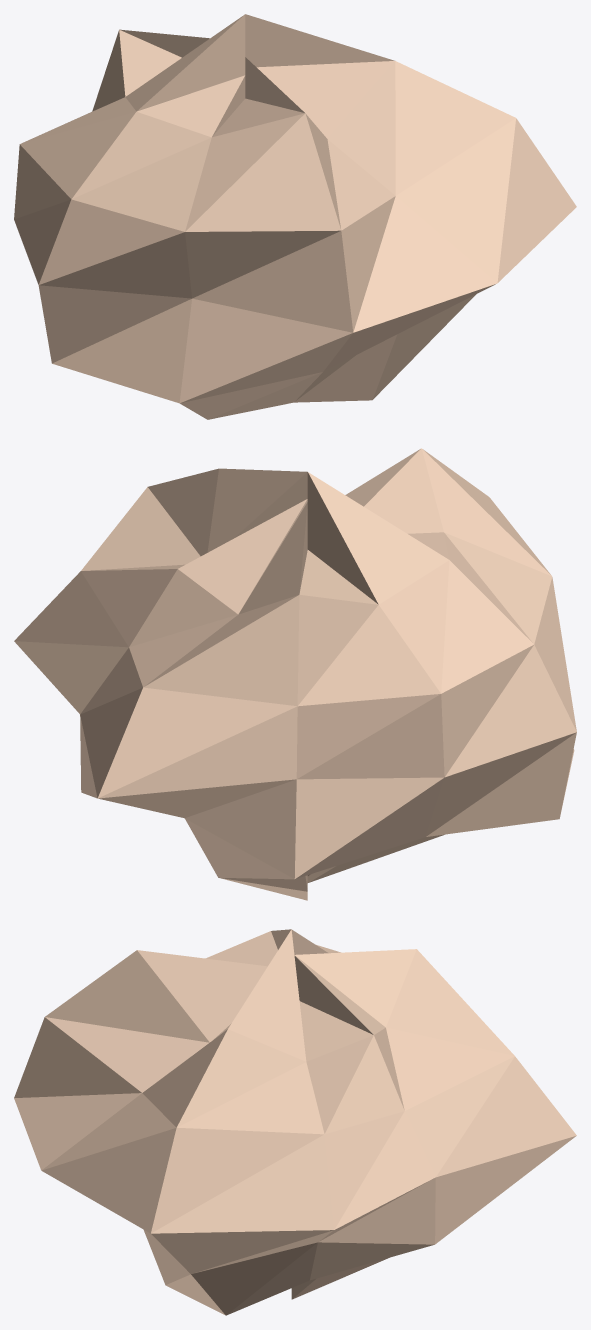
File: rock_076.obj
3 views of the same model, one above another, from view 1: azimuth 30°, elevation 25°; view 2: azimuth 150°, elevation 25°; view 3: azimuth 270°, elevation 25° (orthographic). The views are drawn at different scales.
Bounding box in the file's own units: 0.5151 × 0.4029 × 0.5547.
